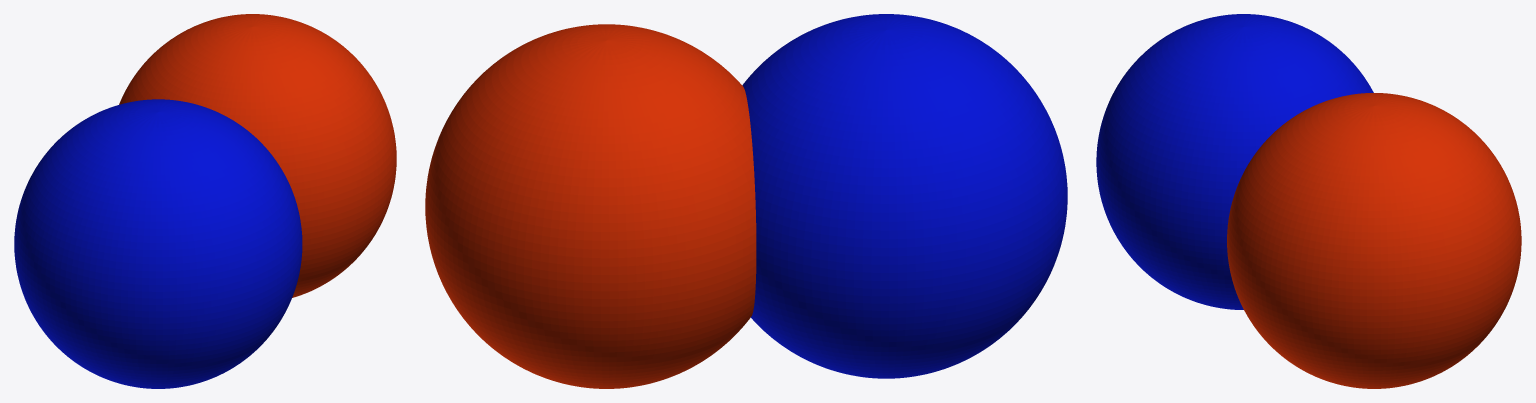
The model's file is ball.fbx.
3 views of the same model, side by side, from view 1: azimuth 30°, elevation 25°; view 2: azimuth 150°, elevation 25°; view 3: azimuth 270°, elevation 25° (orthographic). The views are drawn at different scales.
Visible parts, largest first — view 1: Sphere, Sphere.001; view 2: Sphere.001, Sphere; view 3: Sphere.001, Sphere.
Boxes of the visible parts, box(x1,y1,x2,y2) form: Sphere: box(14, 99, 302, 388); Sphere.001: box(119, 14, 396, 297); Sphere.001: box(425, 24, 756, 388); Sphere: box(742, 14, 1067, 378); Sphere.001: box(1227, 93, 1521, 388); Sphere: box(1096, 14, 1373, 309).
Size of the model in its own units: 323 by 200 by 285.
